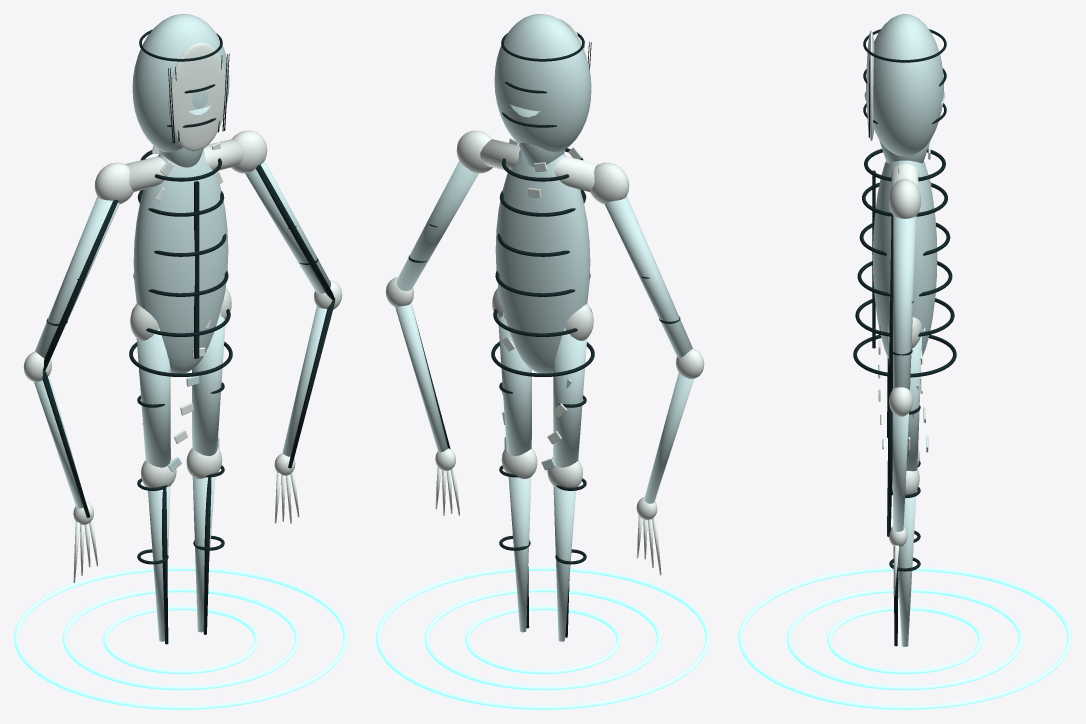
3 views of the same model, side by side, from view 1: azimuth 30°, elevation 25°; view 2: azimuth 150°, elevation 25°; view 3: azimuth 270°, elevation 25° (orthographic).
Visible parts, largest first — view 1: torso_core, head_teardrop_cranium, blank_mirror_face, water_ripple_ring_3, leg_l_upper, leg_r_upper, arm_l_upper, water_ripple_ring_2, arm_r_upper, shoulder_bar, leg_r_lower, leg_l_lower (+18 smaller); view 2: torso_core, head_teardrop_cranium, water_ripple_ring_3, arm_l_upper, leg_l_upper, leg_r_upper, arm_r_upper, water_ripple_ring_2, leg_r_lower, leg_l_lower, arm_r_lower, shoulder_bar (+11 smaller); view 3: head_teardrop_cranium, torso_core, water_ripple_ring_3, arm_r_upper, water_ripple_ring_2, leg_r_lower, arm_r_lower, water_ripple_ring_1, leg_r_upper, shoulder_socket_r, torso_tile_band_1, blank_mirror_face (+4 smaller).
Part boxes in pixels (<box>): torso_core: <box>133,150,228,373</box>; head_teardrop_cranium: <box>132,14,229,152</box>; blank_mirror_face: <box>168,43,226,151</box>; water_ripple_ring_3: <box>14,566,347,709</box>; leg_l_upper: <box>136,327,170,467</box>; leg_r_upper: <box>192,312,225,455</box>; arm_l_upper: <box>35,196,119,358</box>; water_ripple_ring_2: <box>62,588,299,690</box>; arm_r_upper: <box>245,160,330,293</box>; shoulder_bar: <box>125,139,243,191</box>; leg_r_lower: <box>192,477,215,632</box>; leg_l_lower: <box>148,486,170,641</box>; torso_core: <box>495,150,590,373</box>; head_teardrop_cranium: <box>494,14,591,152</box>; water_ripple_ring_3: <box>376,566,709,709</box>; arm_l_upper: <box>605,196,692,357</box>; leg_l_upper: <box>553,327,587,467</box>; leg_r_upper: <box>498,312,531,455</box>; arm_r_upper: <box>396,161,478,290</box>; water_ripple_ring_2: <box>424,588,661,690</box>; leg_r_lower: <box>508,477,531,632</box>; leg_l_lower: <box>553,486,575,641</box>; arm_r_lower: <box>395,303,447,452</box>; shoulder_bar: <box>480,139,598,191</box>; head_teardrop_cranium: <box>866,14,943,156</box>; torso_core: <box>872,160,937,358</box>; water_ripple_ring_3: <box>738,566,1071,709</box>; arm_r_upper: <box>892,215,916,389</box>; water_ripple_ring_2: <box>787,588,1022,690</box>; leg_r_lower: <box>897,491,916,646</box>; arm_r_lower: <box>892,413,908,531</box>; water_ripple_ring_1: <box>827,606,982,674</box>; leg_r_upper: <box>887,329,922,471</box>; shoulder_socket_r: <box>889,178,920,218</box>; torso_tile_band_1: <box>853,334,956,377</box>; blank_mirror_face: <box>866,30,874,141</box>.
Size of the model in its own units: 1.35 by 2.56 by 1.24.
